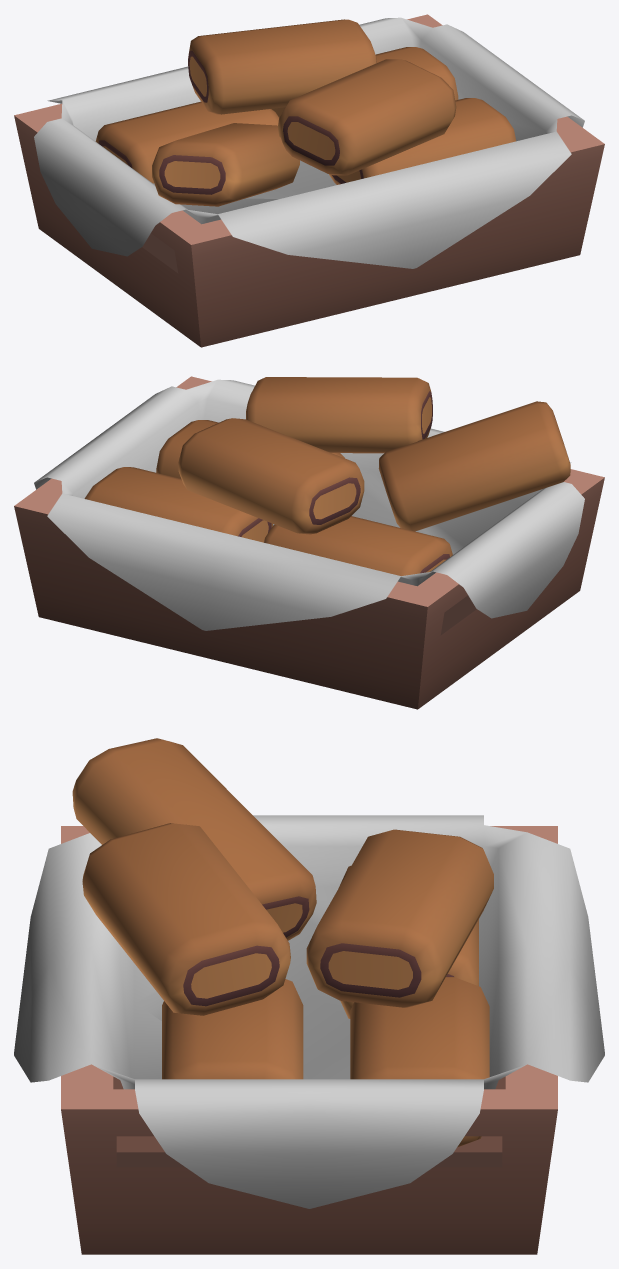
File: PainChocolat.fbx
3 renders of one model, top to bottom at view 1: azimuth 30°, elevation 25°; view 2: azimuth 150°, elevation 25°; view 3: azimuth 270°, elevation 25°, orthographic. The views are drawn at different scales.
Parts seen in each view (by area): view 1: Plane.001, Plane, Cube.008, Cube.009, Cube.007, Cube.006, Cube.005, Cube.004; view 2: Plane.001, Plane, Cube.007, Cube.009, Cube.008, Cube.006, Cube.004, Cube.005; view 3: Plane.001, Plane, Cube.008, Cube.009, Cube.007, Cube.004, Cube.005, Cube.006.
Boxes of the visible parts, x1,y1,x2,y2 form: Plane.001: (34,17,584,268); Plane: (14,14,604,347); Cube.008: (277,59,456,175); Cube.009: (188,19,376,114); Cube.007: (152,123,299,206); Cube.006: (95,101,278,183); Cube.005: (329,98,515,184); Cube.004: (271,47,458,117); Plane.001: (34,379,584,630); Plane: (14,376,604,709); Cube.007: (378,401,570,531); Cube.009: (178,418,364,534); Cube.008: (246,377,432,453); Cube.006: (264,516,452,575); Cube.004: (84,467,272,542); Cube.005: (156,420,344,478); Plane.001: (14,815,604,1208); Plane: (61,826,557,1254); Cube.008: (82,823,290,1015); Cube.009: (306,829,493,1007); Cube.007: (72,738,316,940); Cube.004: (350,977,489,1147); Cube.005: (162,979,303,1079); Cube.006: (339,866,478,1018).
Bounding box in the file's own units: 24.38 × 10.12 × 20.41.
